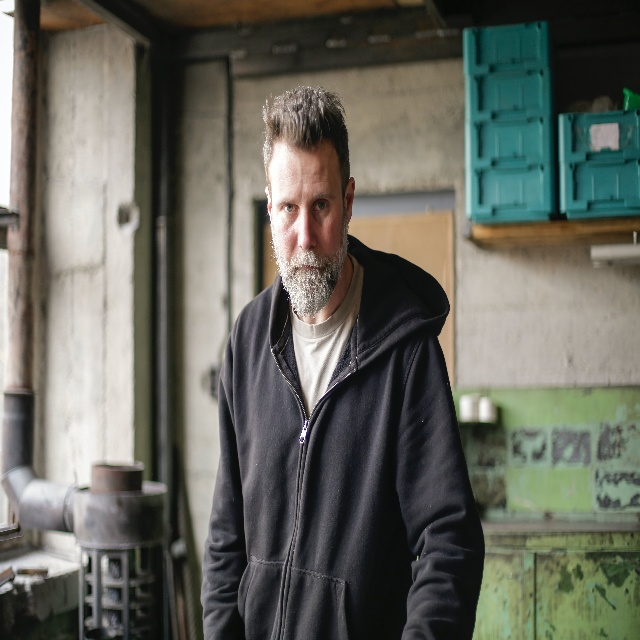Sin_guantes: (254, 84, 356, 323)
